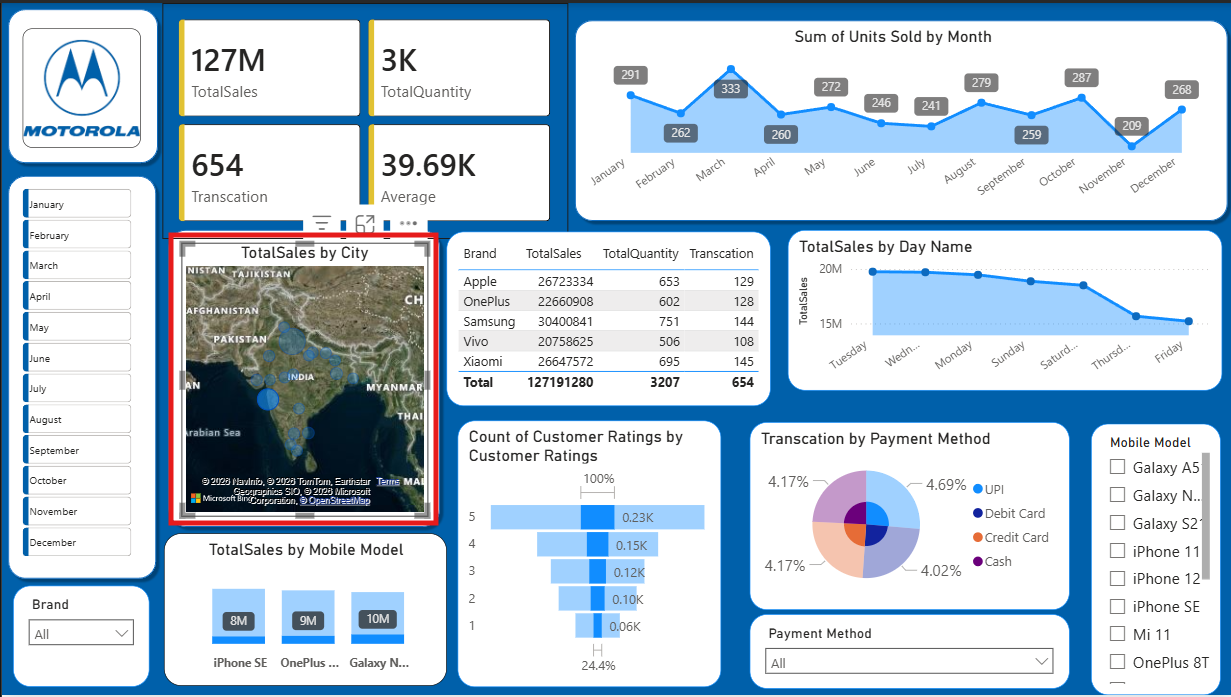

Layout of this report page (visuals, bound fields, positions):
{"tool":"powerbi","page":{"name":"Page 1","canvas":[1280,720],"ordinal":0},"visuals":[{"type":"shape","box":[0,0,168.6,172.9],"z":0},{"type":"image","box":[21.4,25.7,122.9,124.3],"z":1000},{"type":"shape","box":[166.7,230,295,321.7],"z":2000},{"type":"shape","box":[0,173.3,166.7,431.7],"z":3000},{"type":"advancedSlicerVisual","fields":{"Values":["MobileSalesData.Date.Variation.Date Hierarchy.Month"]},"box":[16.7,188.3,136.7,393.3],"z":4000},{"type":"cardVisual","fields":{"Data":["MobileSalesData.TotalSales","MobileSalesData.TotalQuantity","MobileSalesData.Transcation","MobileSalesData.Average"]},"box":[167.1,0,421.4,245.7],"z":5000},{"type":"map","fields":{"Size":["MobileSalesData.TotalSales"],"Category":["MobileSalesData.City"]},"box":[186.7,250,256.7,285],"z":6000},{"type":"shape","box":[588.6,11.4,691.4,221.4],"z":7000},{"type":"lineChart","fields":{"Y":["Sum(MobileSalesData.Units Sold)"],"Category":["MobileSalesData.Date.Variation.Date Hierarchy.Month","MobileSalesData.Date.Variation.Date Hierarchy.Day"]},"box":[600,25,651.7,190],"z":8000},{"type":"clusteredColumnChart","fields":{"Y":["MobileSalesData.TotalSales"],"Category":["MobileSalesData.Mobile Model"]},"box":[168.6,551.4,294.3,158.6],"z":9000},{"type":"pieChart","fields":{"Category":["MobileSalesData.Payment Method"],"Y":["MobileSalesData.Transcation"]},"box":[777.5,435,332.5,195],"z":10000},{"type":"funnel","fields":{"Category":["MobileSalesData.Customer Ratings"],"Y":["CountNonNull(MobileSalesData.Customer Ratings)"]},"box":[474.3,434.3,274.3,277.1],"z":11000},{"type":"tableEx","fields":{"Values":["MobileSalesData.Brand","MobileSalesData.TotalSales","MobileSalesData.TotalQuantity","MobileSalesData.Transcation"]},"box":[462.9,237.1,337.1,181.4],"z":12000},{"type":"lineChart","fields":{"Category":["MobileSalesData.Day Name"],"Y":["MobileSalesData.TotalSales"]},"box":[817.1,235.7,451.4,167.1],"z":13000},{"type":"slicer","fields":{"Values":["MobileSalesData.Mobile Model"]},"box":[1132.5,437.5,135,282.5],"z":14000},{"type":"slicer","fields":{"Values":["MobileSalesData.Payment Method"]},"box":[777.5,635,332.5,77.5],"z":15000},{"type":"slicer","fields":{"Values":["MobileSalesData.Brand"]},"box":[11.7,605,141.7,105],"z":16000}]}

Visuals, with their boxes in screenshot pixels (x1, y1, x2, y2), scaled from the page's 1280x720 canvas onto the 1231x697 screenshot:
shape: [left=0, top=0, right=162, bottom=167]
image: [left=21, top=25, right=139, bottom=145]
shape: [left=160, top=223, right=444, bottom=534]
shape: [left=0, top=168, right=160, bottom=586]
advancedSlicerVisual - MobileSalesData.Date.Variation.Date Hierarchy.Month: [left=16, top=182, right=148, bottom=563]
cardVisual - MobileSalesData.TotalSales x MobileSalesData.TotalQuantity: [left=161, top=0, right=566, bottom=238]
map - MobileSalesData.TotalSales x MobileSalesData.City: [left=180, top=242, right=426, bottom=518]
shape: [left=566, top=11, right=1230, bottom=225]
lineChart - Sum(MobileSalesData.Units Sold) x MobileSalesData.Date.Variation.Date Hierarchy.Month: [left=577, top=24, right=1204, bottom=208]
clusteredColumnChart - MobileSalesData.TotalSales x MobileSalesData.Mobile Model: [left=162, top=534, right=445, bottom=687]
pieChart - MobileSalesData.Payment Method x MobileSalesData.Transcation: [left=748, top=421, right=1068, bottom=610]
funnel - MobileSalesData.Customer Ratings x CountNonNull(MobileSalesData.Customer Ratings): [left=456, top=420, right=720, bottom=689]
tableEx - MobileSalesData.Brand x MobileSalesData.TotalSales: [left=445, top=230, right=769, bottom=405]
lineChart - MobileSalesData.Day Name x MobileSalesData.TotalSales: [left=786, top=228, right=1220, bottom=390]
slicer - MobileSalesData.Mobile Model: [left=1089, top=424, right=1219, bottom=696]
slicer - MobileSalesData.Payment Method: [left=748, top=615, right=1068, bottom=690]
slicer - MobileSalesData.Brand: [left=11, top=586, right=148, bottom=687]
